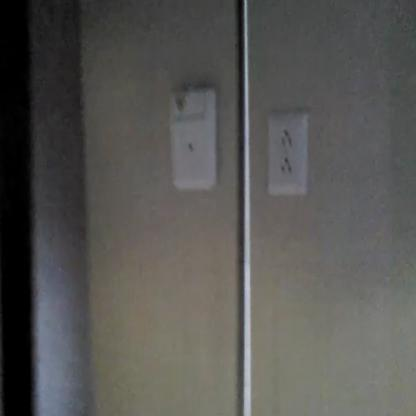OUTLET: (266, 110, 310, 198)
